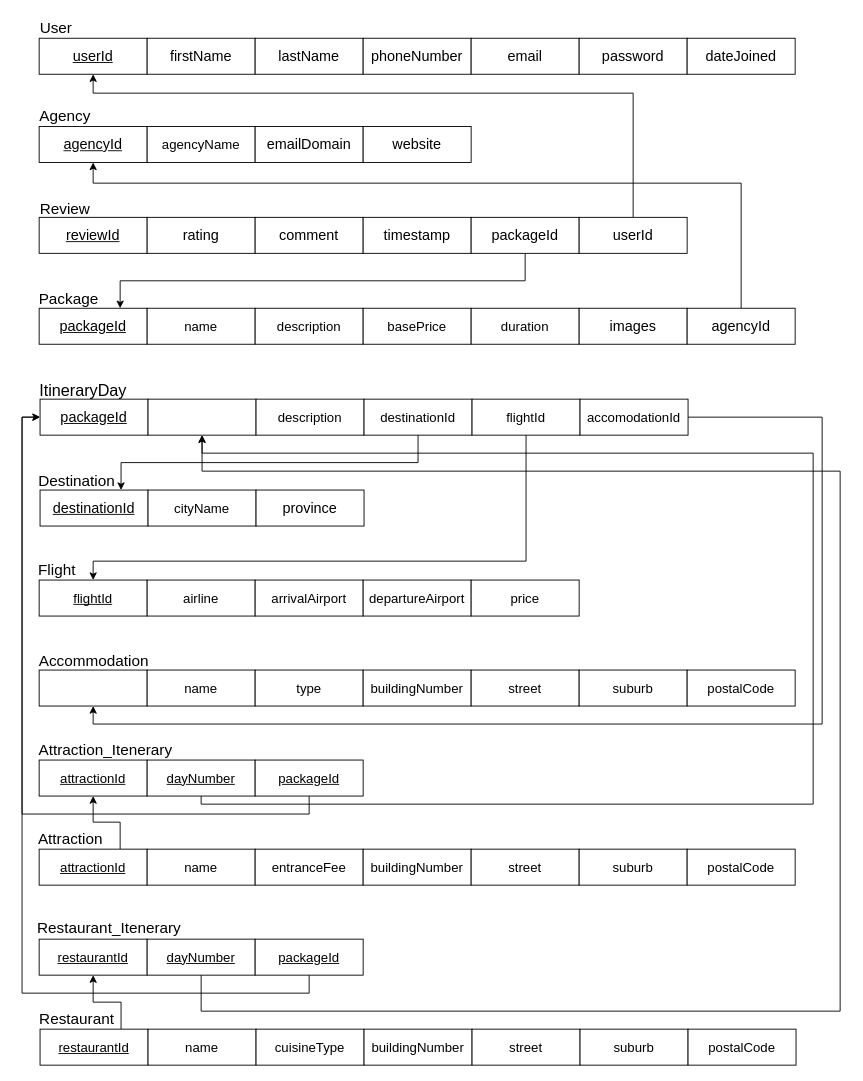
Some shapes in this 863 by 1081 pixel diagram are drawn without their labels. The shapes that lost their labels are listed below. From the top down, each one's centre as x and y in pixels, then its label:
At pixel 201 416: "da y N u m b e r".
At pixel 92 687: "accommodationId".
